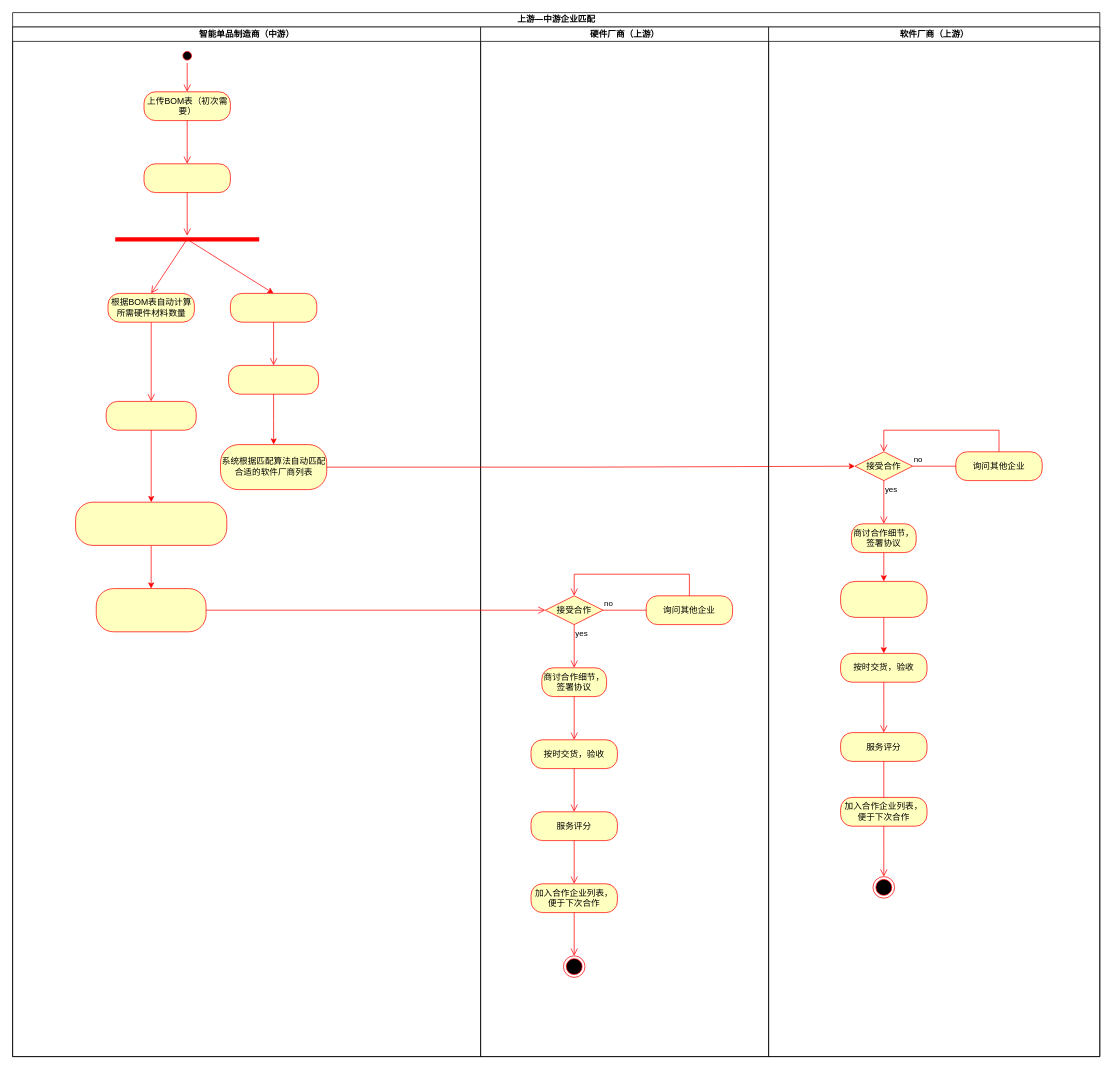
This 1112x1069 diagram has some shape labels left out. Here are the shapes that lost their labels. From the top down, the centre of each, then its label:
point 186,178: 发布产品数量需求
point 273,307: 技术人员分析需要的软件服务
point 273,379: 发布软件服务需求清单
point 150,415: 发布硬件材料需求清单
point 151,523: 系统根据匹配算法自动推荐合适的硬件厂商列表
point 151,610: 在推荐列表中选择硬件厂商进行合作
point 883,599: 开发过程中双方技术人员沟通业务需求细节以及业务变更
